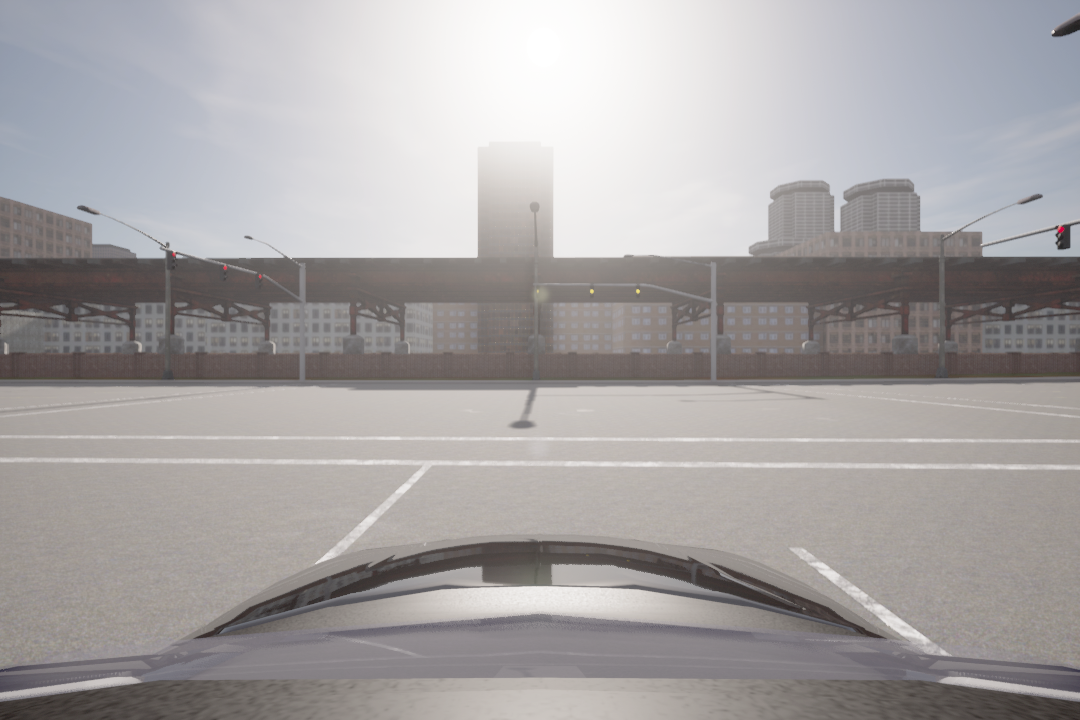TrafficLight: (1052, 223, 1073, 249), (166, 248, 179, 275), (217, 260, 230, 284), (253, 271, 265, 291), (632, 281, 642, 301), (587, 281, 595, 300)
